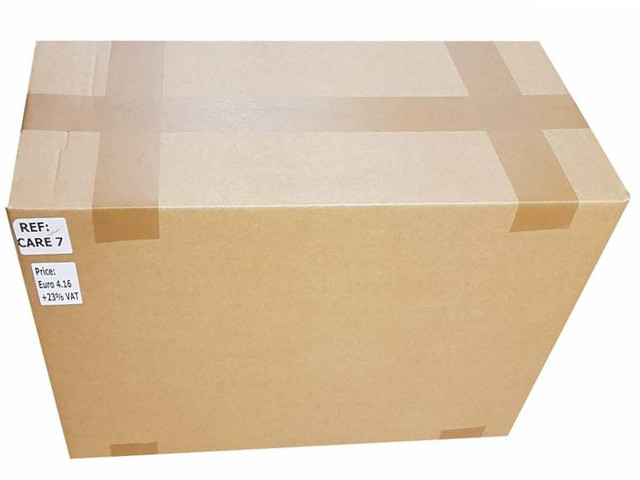cardboard: (6, 39, 630, 460)
